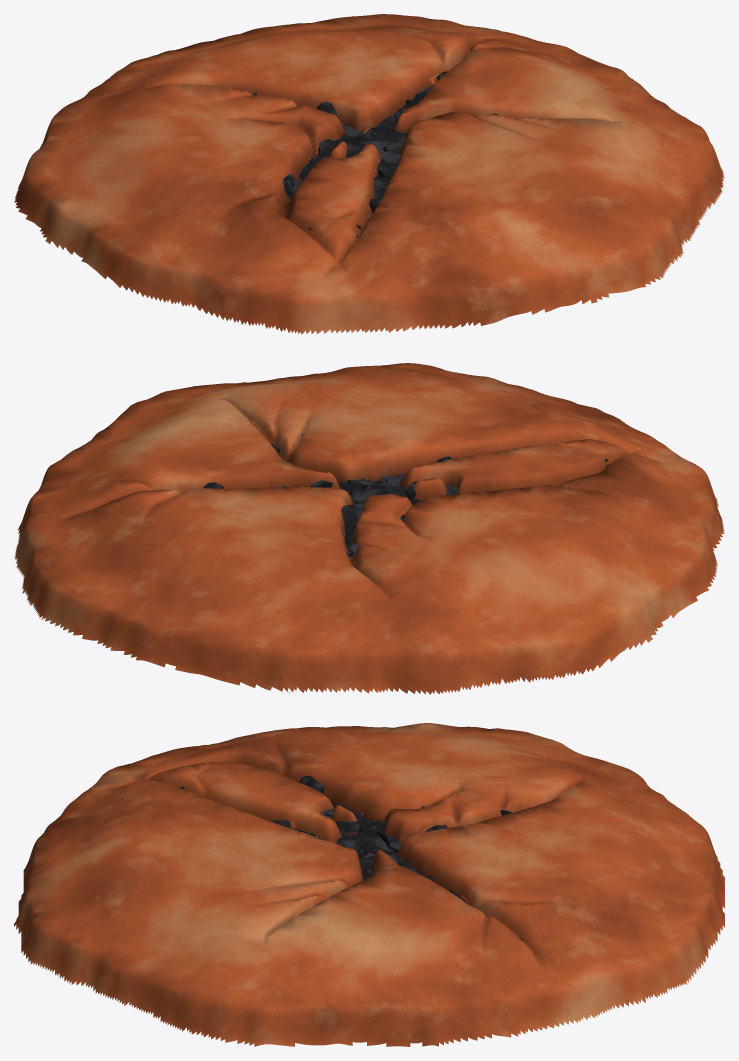
Rendered from Deposit_Coal.fbx.
The picture shows the model from 3 angles, top to bottom: view 1: azimuth 30°, elevation 25°; view 2: azimuth 150°, elevation 25°; view 3: azimuth 270°, elevation 25°; orthographic projection. The views are drawn at different scales.
Visible parts, largest first — view 1: Body, Ore; view 2: Body, Ore; view 3: Body, Ore.
Boxes of the visible parts, bbox=[...] form: Body: bbox=[14, 14, 724, 334]; Ore: bbox=[252, 47, 498, 238]; Body: bbox=[14, 363, 724, 694]; Ore: bbox=[203, 415, 609, 559]; Body: bbox=[14, 723, 724, 1046]; Ore: bbox=[180, 776, 522, 940].
Size of the model in its own units: 5.88 by 0.6336 by 5.92.
2 materials, 2 textured.
